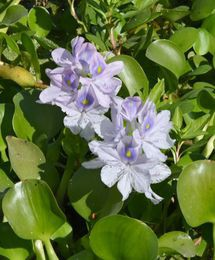water_hyacinth: (0, 0, 214, 260)
